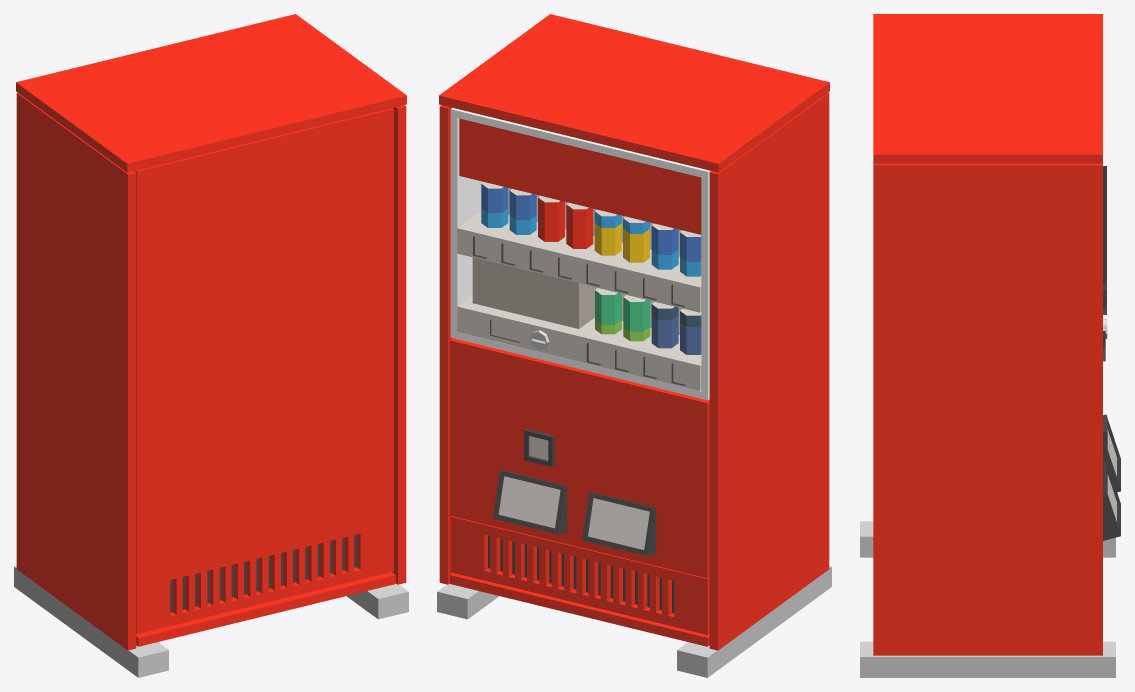
The model's file is bender.glb.
3 renders of one model, left to right at view 1: azimuth 30°, elevation 25°; view 2: azimuth 150°, elevation 25°; view 3: azimuth 270°, elevation 25°, orthographic. The views are drawn at different scales.
Visible parts, largest first — view 1: BenderCoke; view 2: BenderCoke; view 3: BenderCoke.
Part boxes in pixels (left/top/right/bottom): BenderCoke: left=14, top=14, right=408, bottom=677; BenderCoke: left=437, top=14, right=831, bottom=677; BenderCoke: left=860, top=14, right=1120, bottom=677.
Size of the model in its own units: 0.9839 by 1.72 by 0.771.
Materials: 1 (1 with a texture image).
